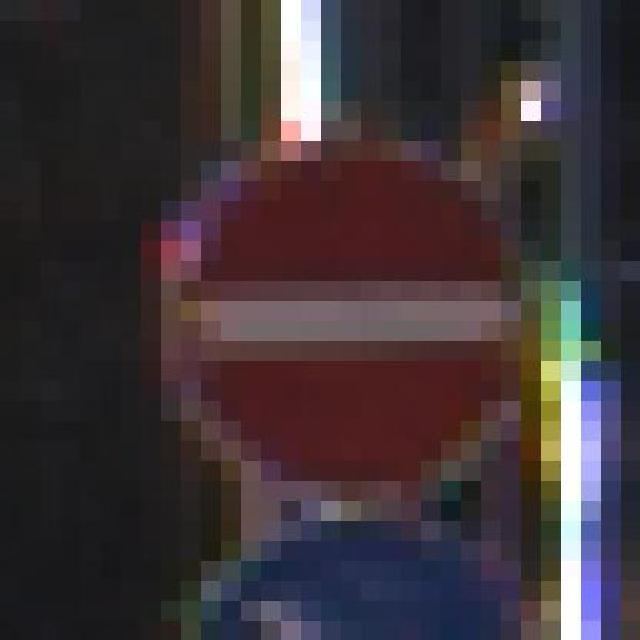B2: (180, 138, 528, 507)
